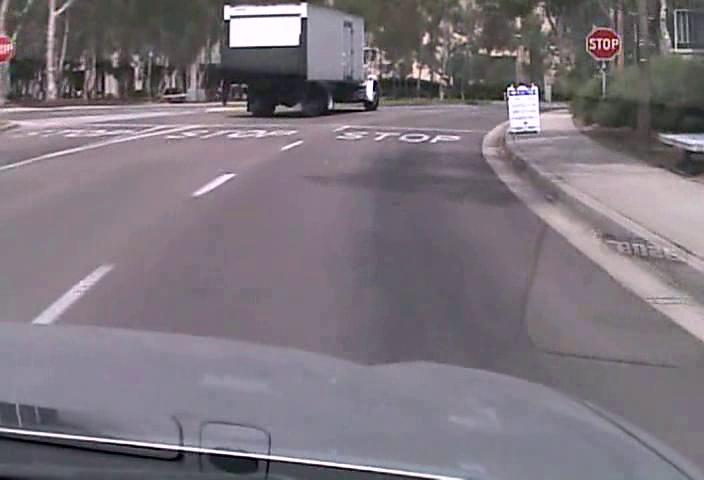stop: (586, 26, 621, 60)
